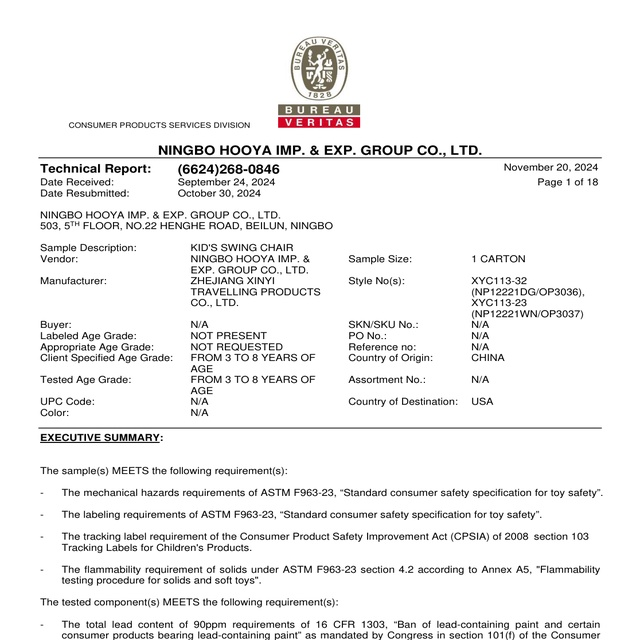bureau_veritas: (277, 33, 362, 128)
